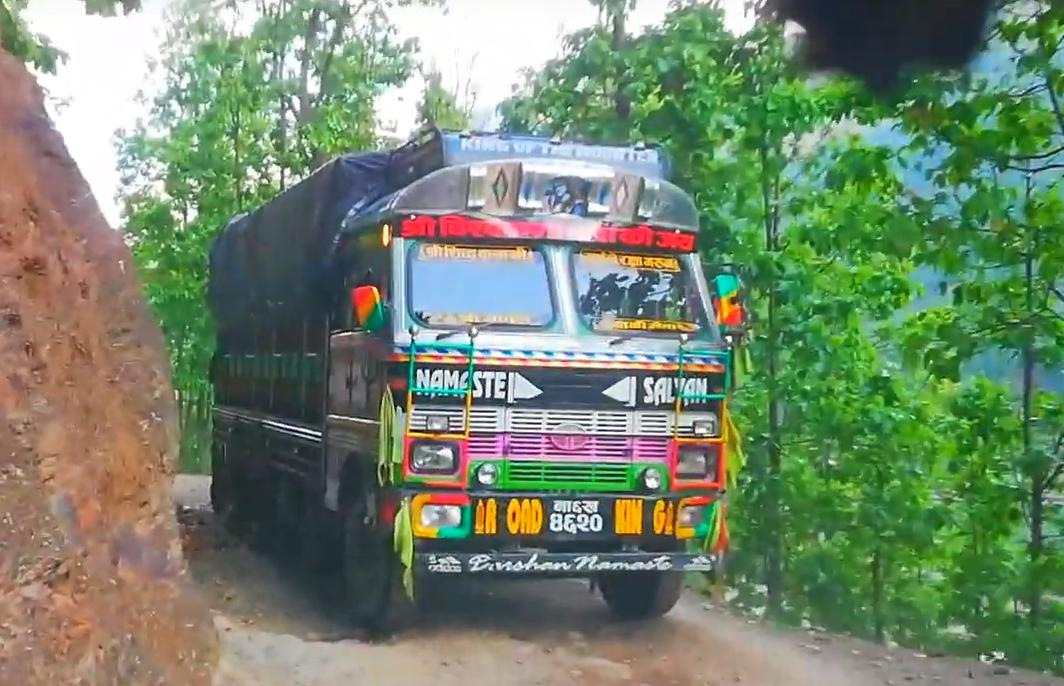truck: (204, 123, 749, 629)
